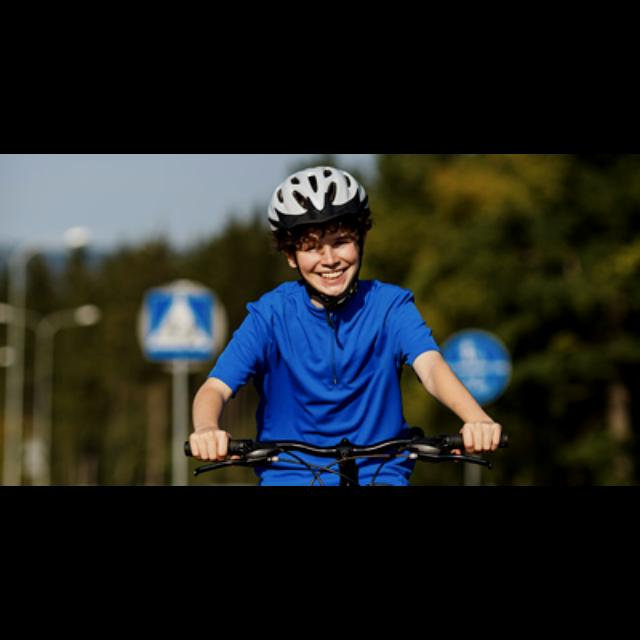With Helmet: (262, 163, 376, 304)
